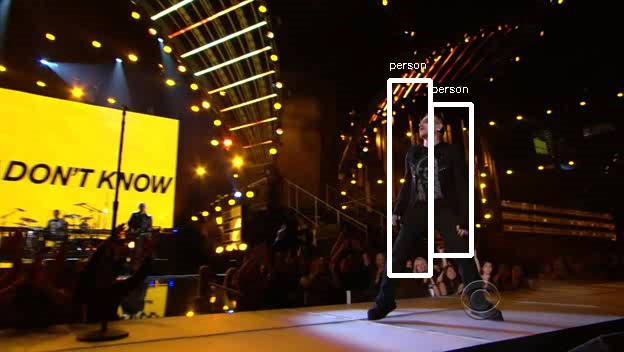person: (397, 114, 464, 235), (394, 114, 461, 235), (400, 114, 467, 235), (397, 111, 464, 232), (397, 117, 464, 238)
target_negative: (128, 68, 579, 350), (411, 5, 552, 287), (27, 15, 80, 352), (41, 52, 506, 79), (10, 191, 42, 277), (490, 332, 603, 341)
